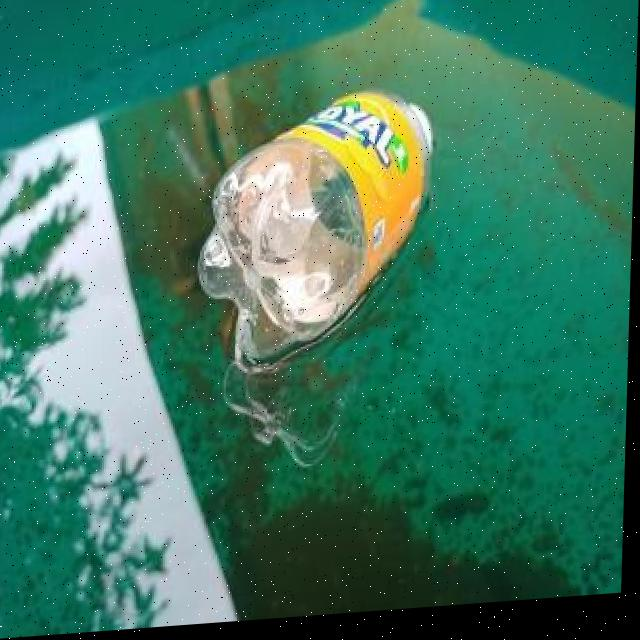bottle: (196, 87, 440, 385)
